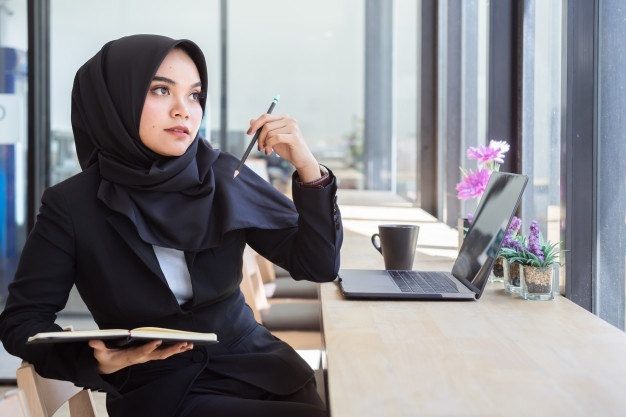no_mask: (138, 106, 204, 156)
